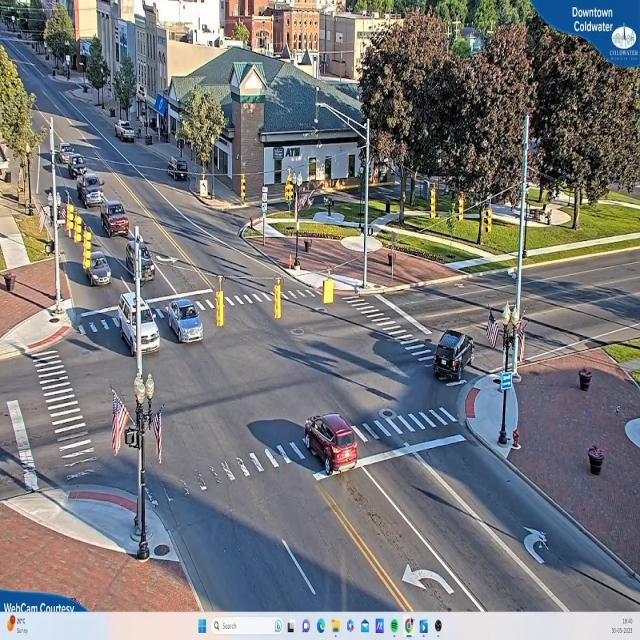car: (305, 416, 358, 476), (119, 292, 160, 355), (434, 330, 475, 386), (169, 298, 205, 346), (124, 240, 157, 283), (101, 204, 131, 238), (84, 252, 110, 288), (78, 176, 104, 210), (166, 160, 189, 180), (66, 154, 84, 178), (116, 123, 136, 143)
